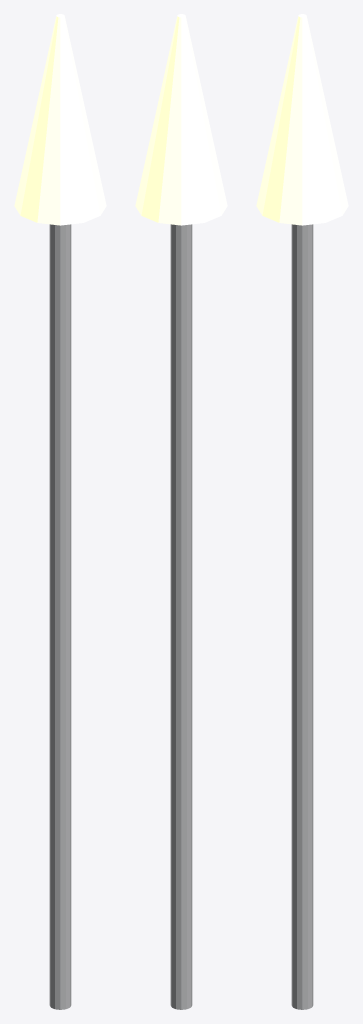
The model's file is sparkler.glb.
3 views of the same model, side by side, from view 1: azimuth 30°, elevation 25°; view 2: azimuth 150°, elevation 25°; view 3: azimuth 330°, elevation 25° (orthographic).
Parts seen in each view (by area): view 1: sparkler; view 2: sparkler; view 3: sparkler.
Boxes of the visible parts, x1,y1,x2,y2 form: sparkler: (14,14,106,1009); sparkler: (135,14,227,1009); sparkler: (256,14,348,1009).
Size of the model in its own units: 0.022 by 0.26 by 0.022.
